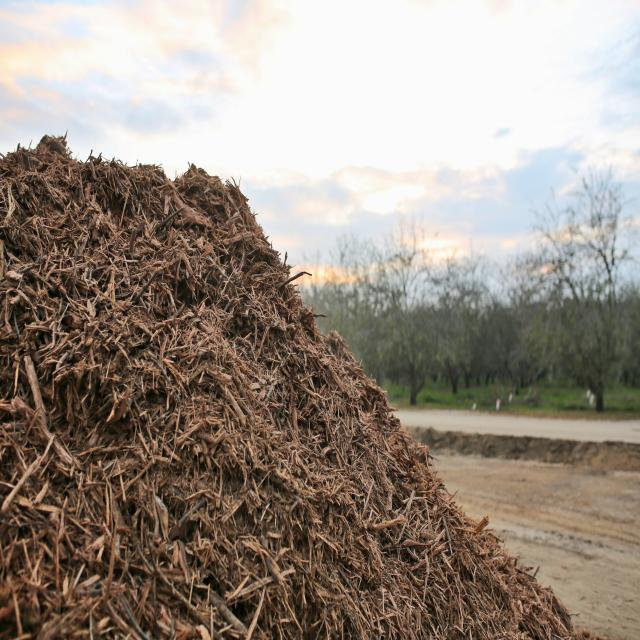green waste: (2, 134, 617, 632)
